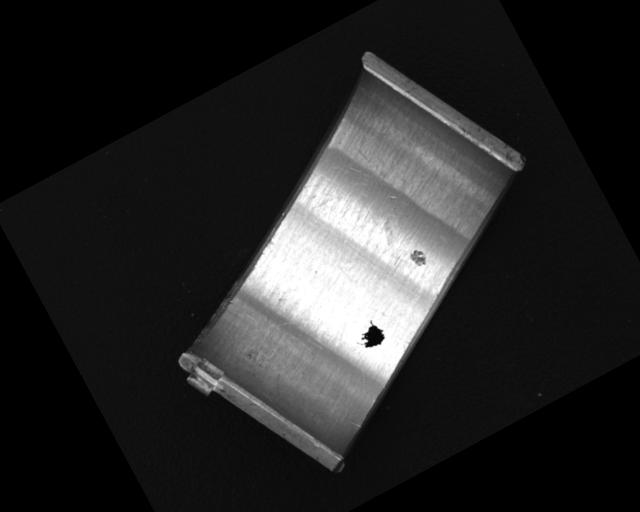blot: (348, 317, 388, 355)
bruise: (405, 245, 430, 271)
nick: (348, 417, 362, 432)
